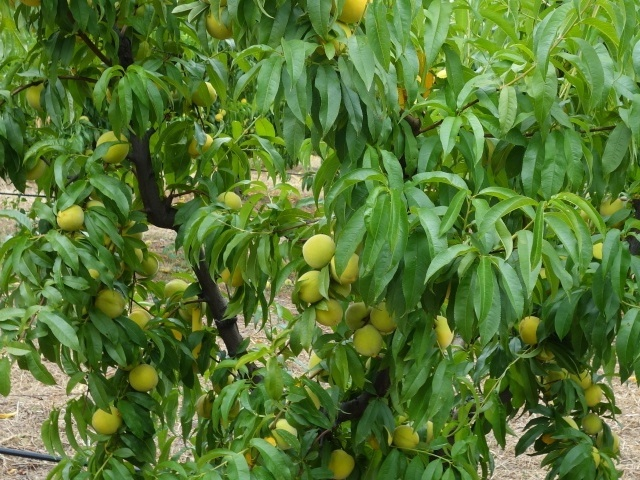peach: (300, 227, 339, 271), (329, 245, 365, 288), (201, 1, 237, 42), (322, 12, 358, 53), (93, 129, 132, 165), (263, 416, 302, 452), (124, 360, 160, 398), (353, 321, 384, 362), (92, 285, 127, 321), (367, 297, 402, 333), (294, 269, 328, 306), (327, 1, 373, 28), (314, 293, 347, 330), (89, 403, 124, 437), (54, 200, 87, 235), (516, 311, 547, 348), (429, 311, 457, 350), (177, 292, 210, 325), (343, 297, 372, 334), (326, 446, 358, 479), (216, 260, 248, 292), (392, 422, 423, 455), (189, 79, 221, 109), (161, 277, 191, 308), (597, 197, 629, 225), (212, 187, 245, 214), (187, 131, 216, 159), (136, 250, 163, 280), (568, 362, 595, 392), (193, 390, 220, 419), (23, 80, 48, 109), (125, 309, 153, 333), (581, 410, 605, 438), (582, 381, 605, 409)
